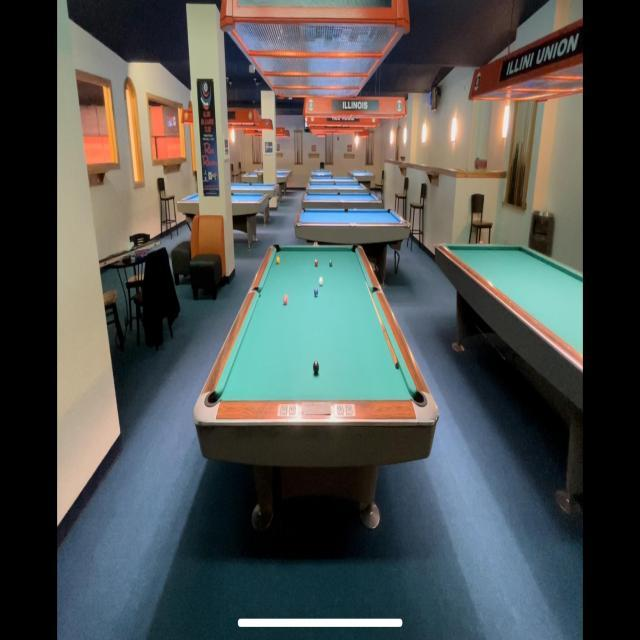Ball: (313, 360, 319, 376), (283, 295, 288, 305), (319, 276, 323, 286), (314, 288, 318, 298), (314, 258, 318, 268), (276, 256, 280, 264), (330, 260, 332, 268)
Pocket: (410, 386, 428, 409), (204, 390, 224, 410), (252, 285, 264, 300), (369, 285, 380, 299), (272, 244, 282, 254), (351, 244, 358, 254)
